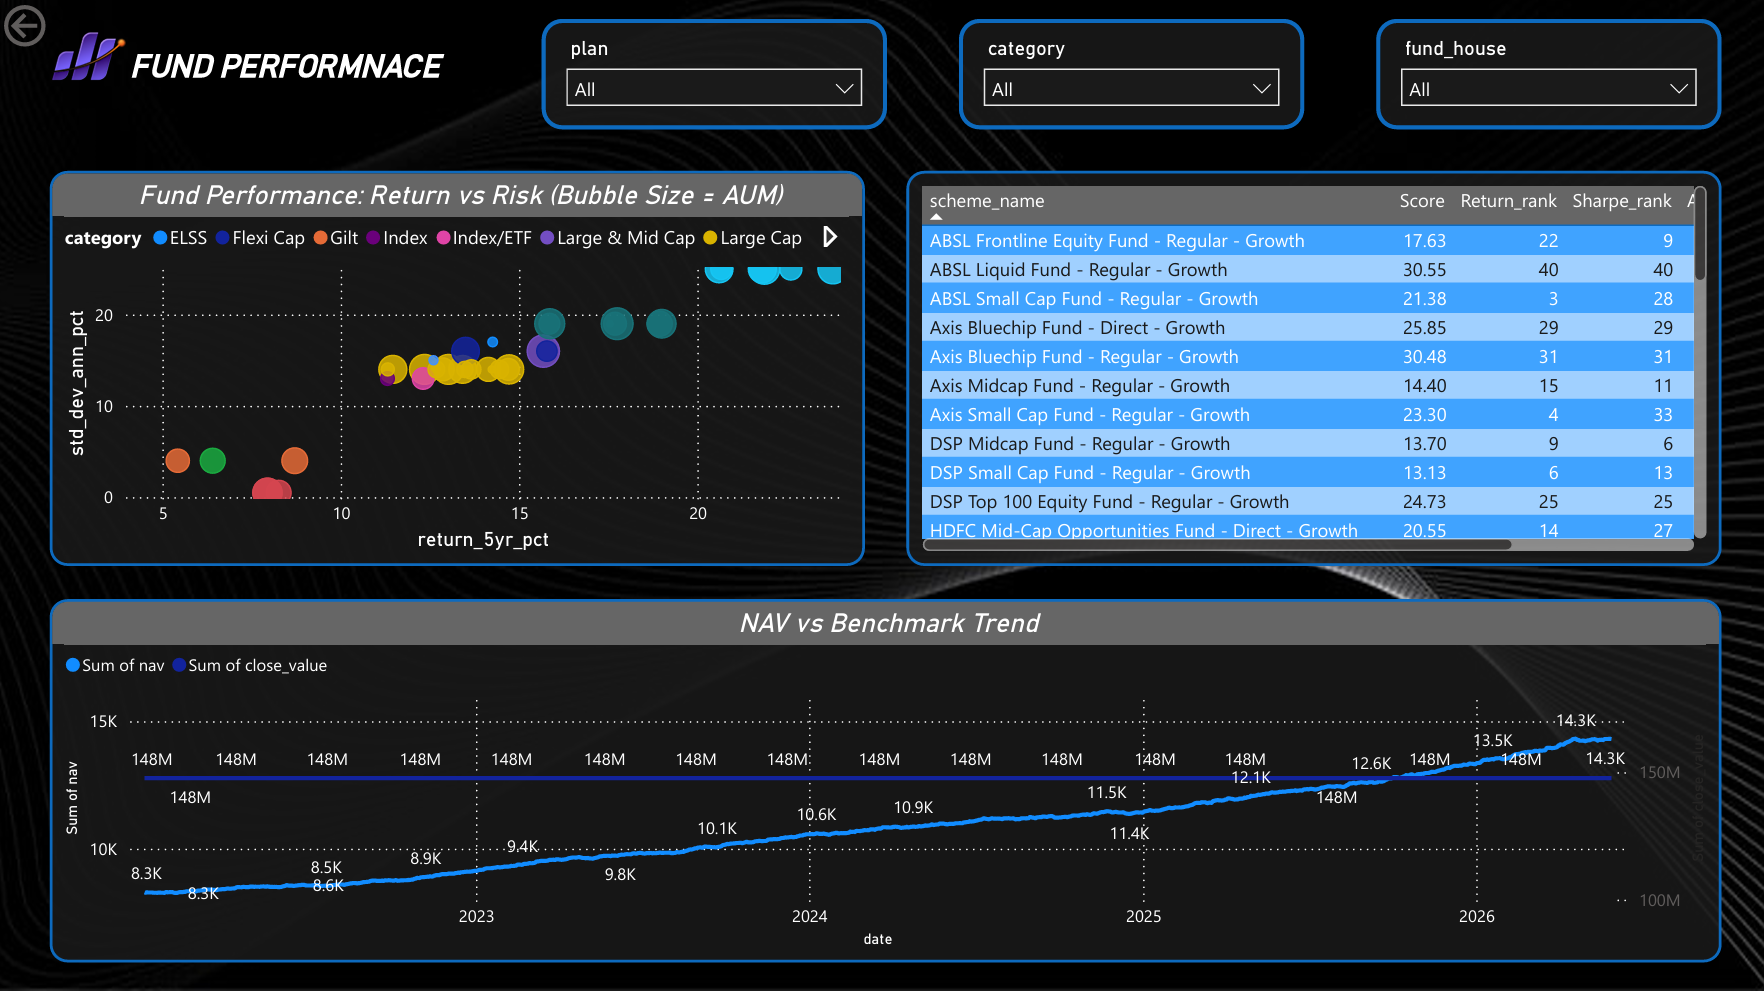

Layout of this report page (visuals, bound fields, positions):
{"tool":"powerbi","page":{"name":"Fund Performance","canvas":[1280,720],"ordinal":1},"visuals":[{"type":"image","box":[0,0,1280,719.2],"z":0},{"type":"scatterChart","title":"Fund Performance: Return vs Risk (Bubble Size = AUM)","fields":{"Y":["clean_performance.std_dev_ann_pct"],"Size":["Sum(clean_performance.aum_crore)"],"X":["clean_performance.return_5yr_pct"],"Series":["clean_performance.category"]},"box":[37.9,124.8,590,286],"z":1000},{"type":"tableEx","fields":{"Values":["cagr_report.scheme_name","Sum(fund_scorecard.score)","Sum(fund_scorecard.return_rank)","Sum(fund_scorecard.sharpe_rank)","Sum(fund_scorecard.alpha_rank)","Sum(fund_scorecard.drawdown_rank)"]},"box":[657.5,124.8,590.2,286],"z":2000},{"type":"lineChart","title":"NAV vs Benchmark Trend","fields":{"Category":["clean_nav.date"],"Y2":["Sum(10_benchmark_indices.close_value)"],"Y":["Sum(clean_nav.nav)"]},"box":[37.9,434.6,1209.9,263.6],"z":3000},{"type":"slicer","fields":{"Values":["clean_performance.plan"]},"box":[394,15,250,80],"z":4000},{"type":"slicer","fields":{"Values":["clean_performance.category"]},"box":[695.9,15,250,80],"z":5000},{"type":"slicer","fields":{"Values":["clean_performance.fund_house"]},"box":[998.2,15,250,80],"z":6000},{"type":"actionButton","box":[0,0,100,40],"z":7000},{"type":"textbox","title":"FUND PERFORMNACE","box":[47,36,322.5,25.2],"z":8000},{"type":"image","box":[0,9.8,130.4,64.5],"z":9000}]}

Visuals, with their boxes in screenshot pixels (x1, y1, x2, y2), scaled from the page's 1280x720 canvas onto the 1764x991 screenshot:
image: detection(0, 0, 1763, 990)
"Fund Performance: Return vs Risk (Bubble Size = AUM)" scatterChart: detection(52, 172, 865, 565)
tableEx - cagr_report.scheme_name x Sum(fund_scorecard.score): detection(906, 172, 1719, 565)
"NAV vs Benchmark Trend" lineChart: detection(52, 598, 1720, 961)
slicer - clean_performance.plan: detection(543, 21, 888, 131)
slicer - clean_performance.category: detection(959, 21, 1304, 131)
slicer - clean_performance.fund_house: detection(1376, 21, 1720, 131)
actionButton: detection(0, 0, 138, 55)
"FUND PERFORMNACE" textbox: detection(65, 50, 509, 84)
image: detection(0, 13, 180, 102)
